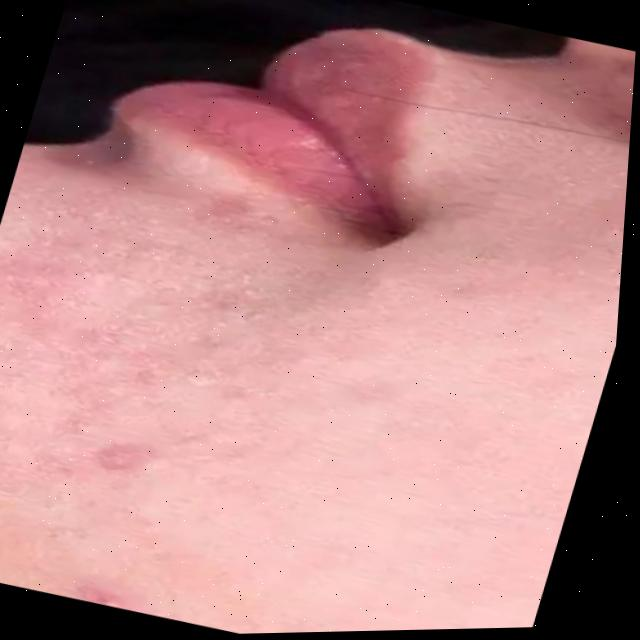Acne: (0, 182, 308, 528)
